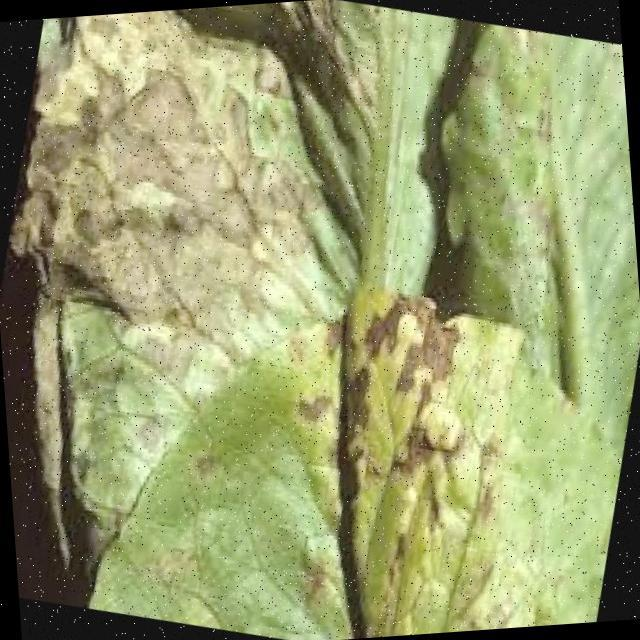Septoria_Blight: (127, 235, 625, 640), (6, 3, 339, 289)
